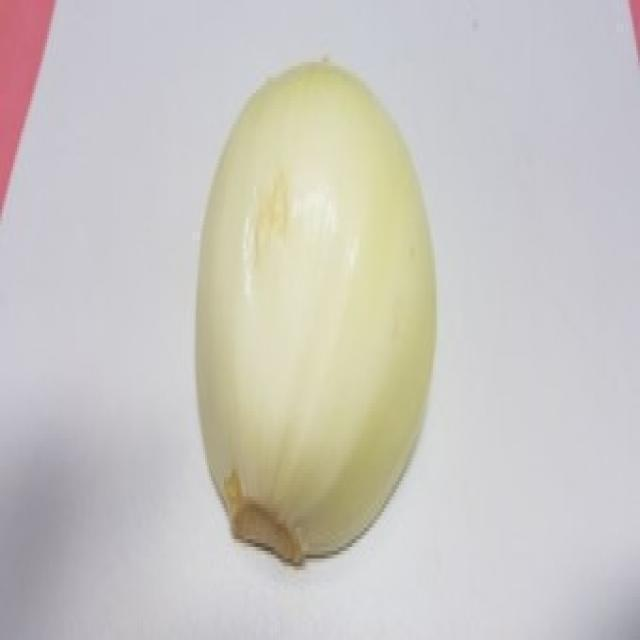Onion: (194, 55, 439, 567)
